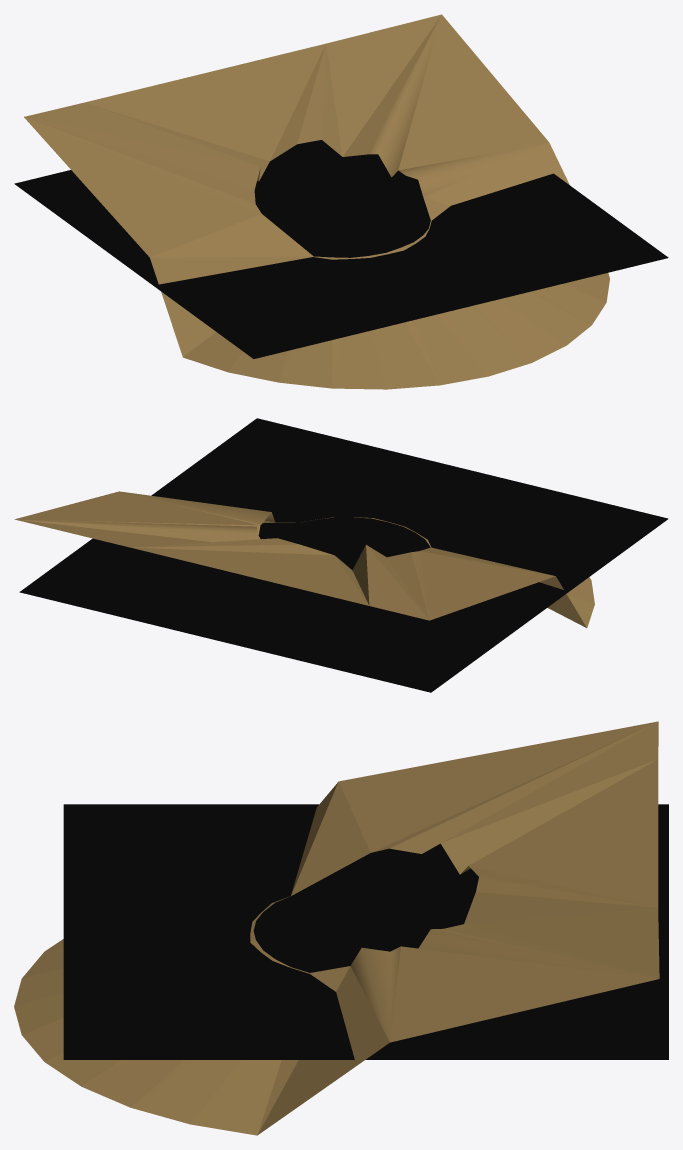
File: Dest_Desert_Field_Wall.FBX
3 renders of one model, top to bottom at view 1: azimuth 30°, elevation 25°; view 2: azimuth 150°, elevation 25°; view 3: azimuth 270°, elevation 25°, orthographic. The views are drawn at different scales.
Parts seen in each view (by area): view 1: Object001; view 2: Object001; view 3: Object001.
Boxes of the visible parts, x1=… form: Object001: x1=14, y1=14, x2=668, y2=389; Object001: x1=14, y1=418, x2=668, y2=692; Object001: x1=14, y1=721, x2=668, y2=1135.
Bounding box in the file's own units: 821 × 229 × 866.
